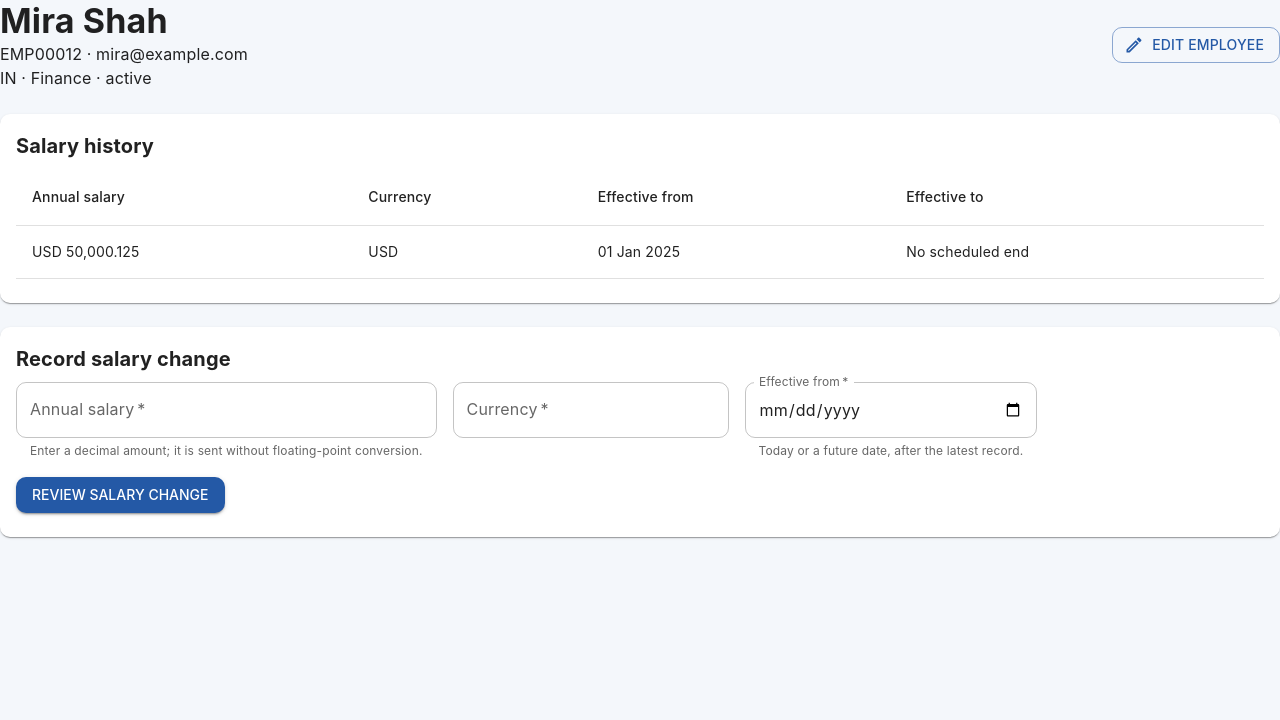
Scenario: employee detail and salary history › shows salary history and confirms the requested salary change before posting
Expected: the text "USD 50,000.125" is shown, x1=16 y1=226 x2=352 y2=278
Expected: the text "01 Jan 2025" is shown, x1=582 y1=226 x2=890 y2=278
In the field labelled "Annual salary *": [226, 410] box x1=16 y1=382 x2=437 y2=438, type "60000.125"
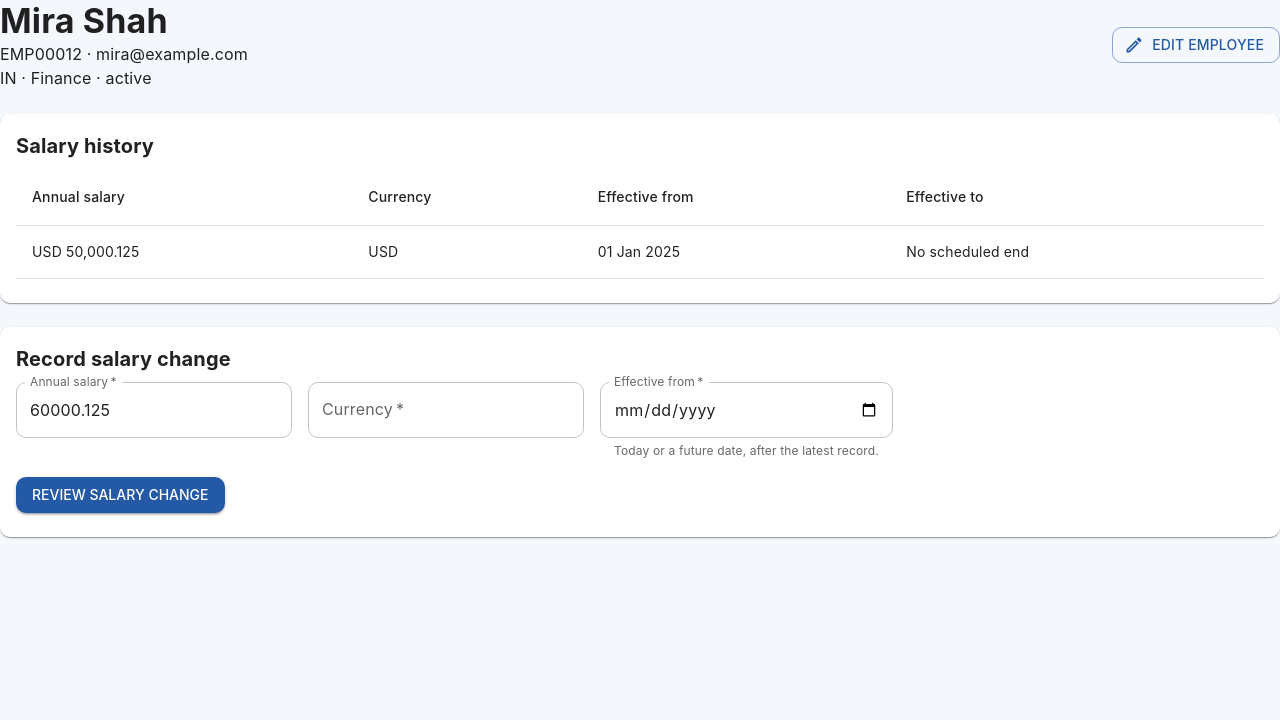
In the field labelled "Currency *": [446, 410] box x1=308 y1=382 x2=584 y2=438, type "USD"
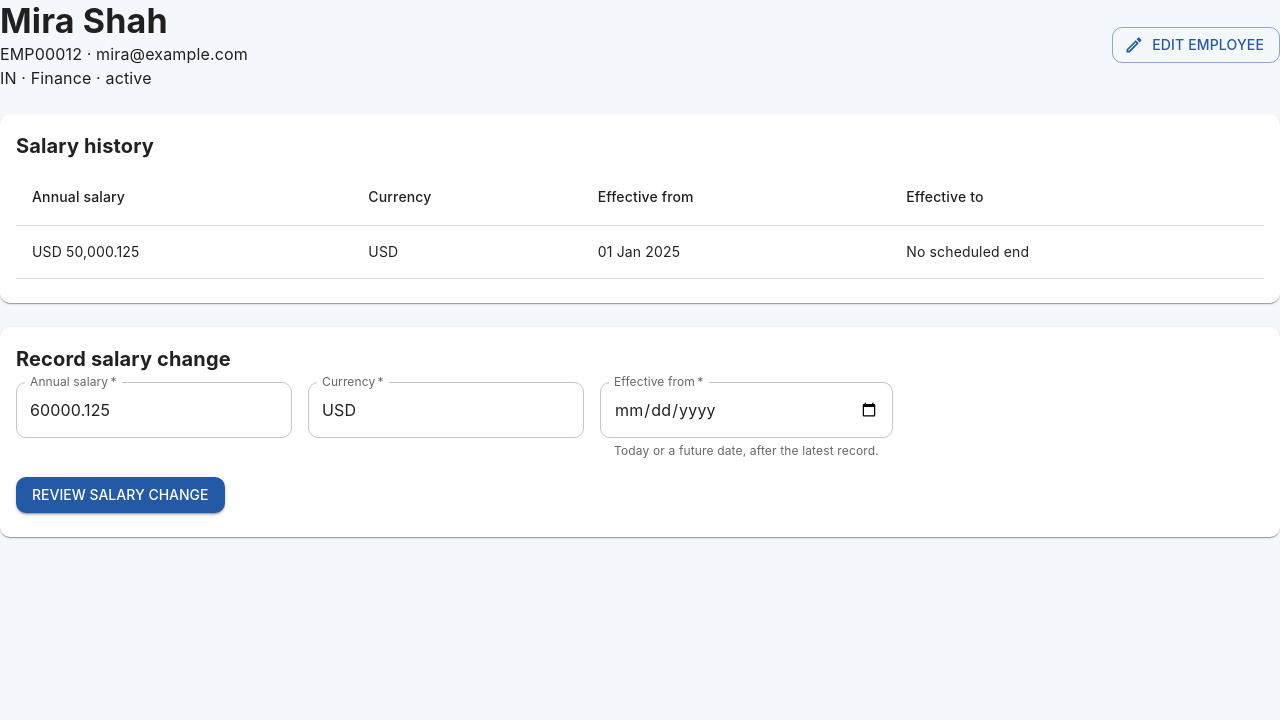
In the date field labelled "Effective from *": [746, 410] box x1=600 y1=382 x2=893 y2=438, type "2099-01-01"
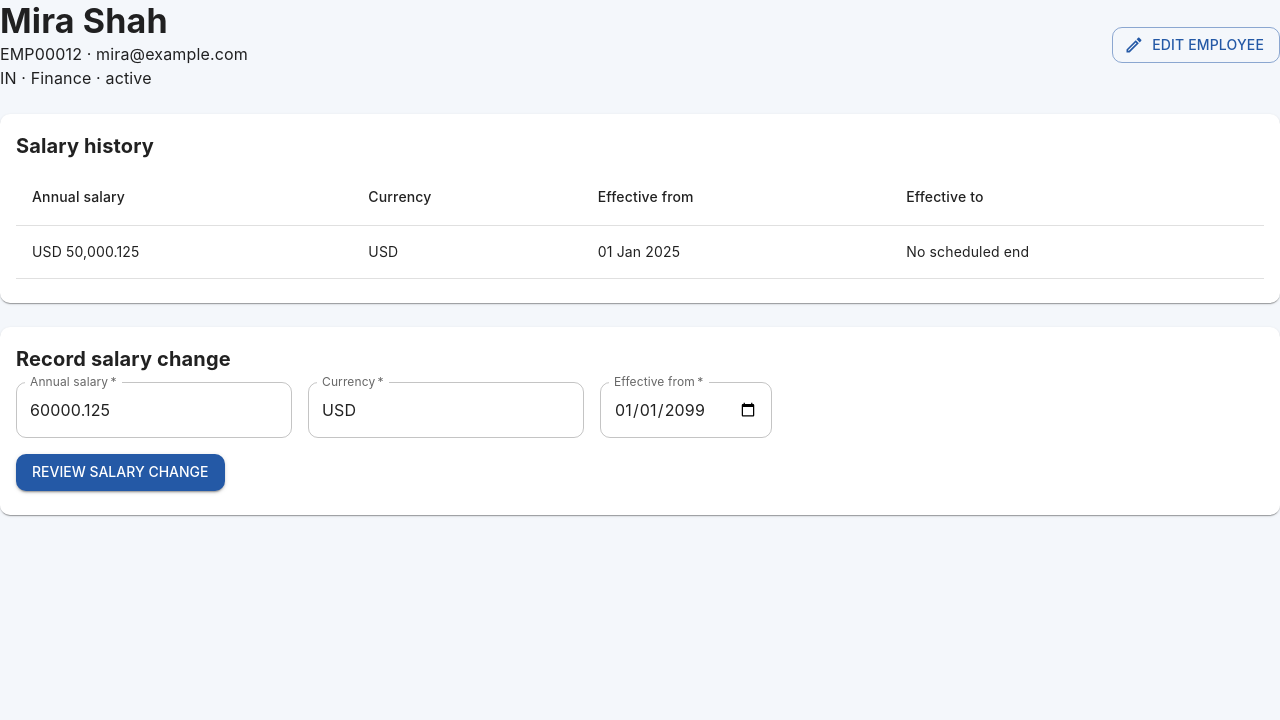
Click the button "Review salary change": [120, 472] box x1=16 y1=454 x2=224 y2=490
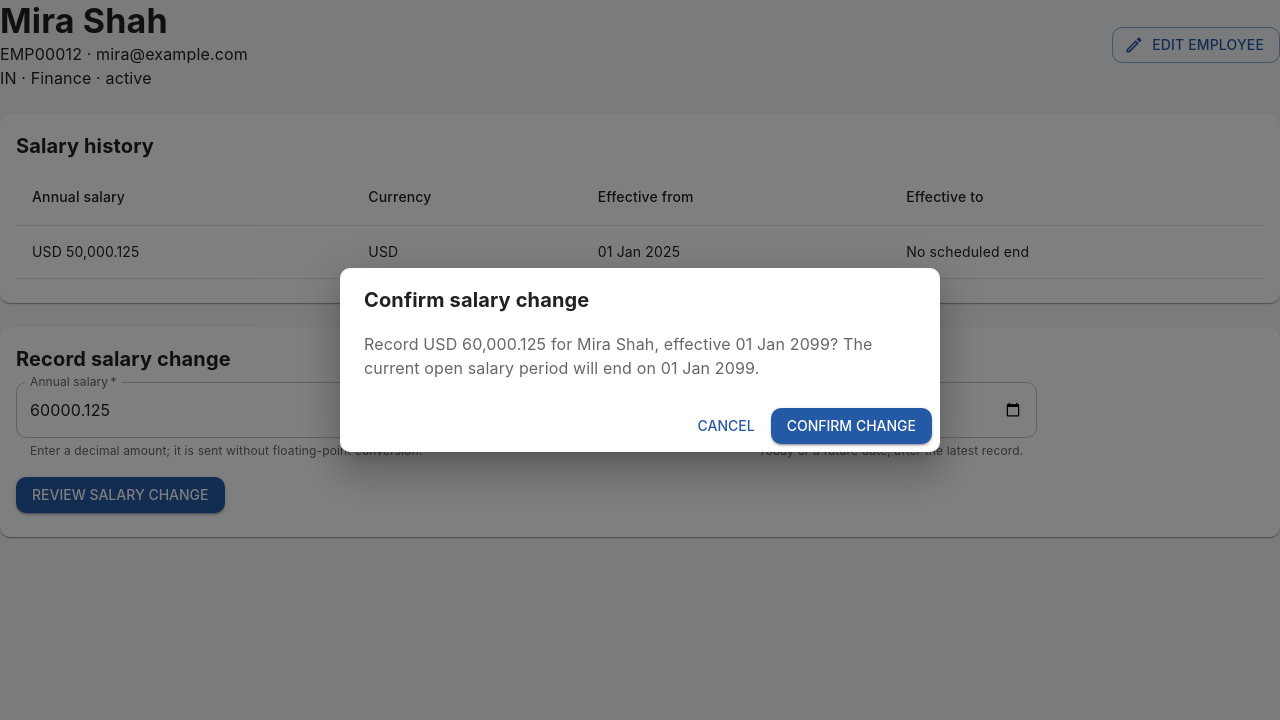
Expected: the dialog shows "01 Jan 2099", x1=736 y1=334 x2=830 y2=354
Click the button "Confirm change": [851, 426] box x1=771 y1=408 x2=932 y2=444
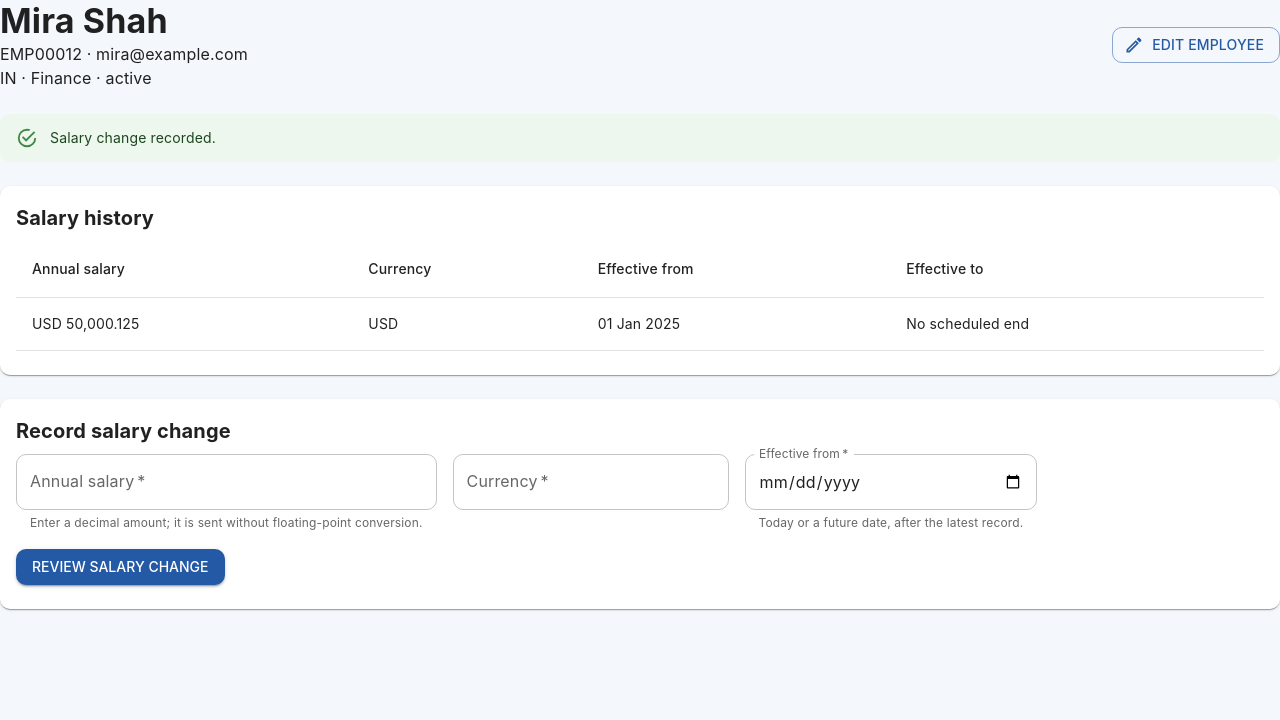
Expected: the text "Salary change recorded." is shown, x1=50 y1=129 x2=216 y2=146
